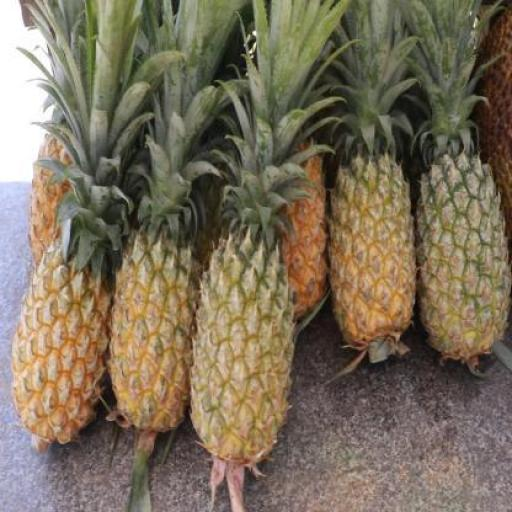------------------------------: (194, 240, 296, 457)
Pineapple - v8 v1: (10, 249, 112, 456), (111, 232, 204, 430), (330, 161, 416, 356), (28, 130, 95, 284)
